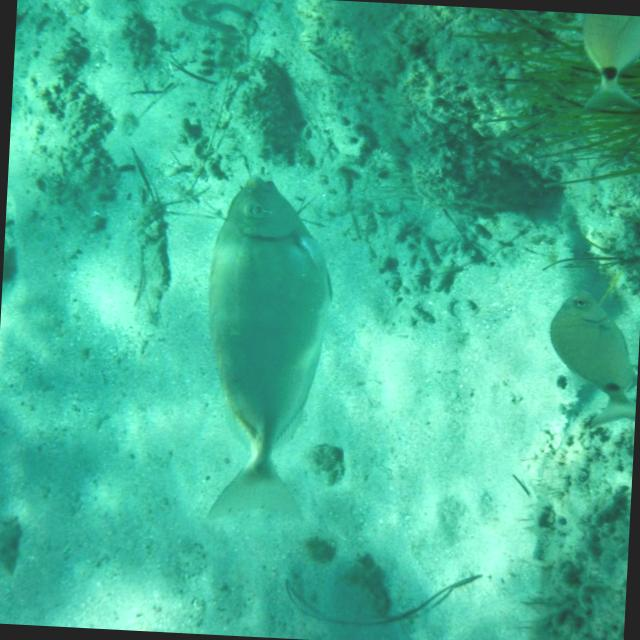Sokar Baligi: (178, 156, 362, 544)
